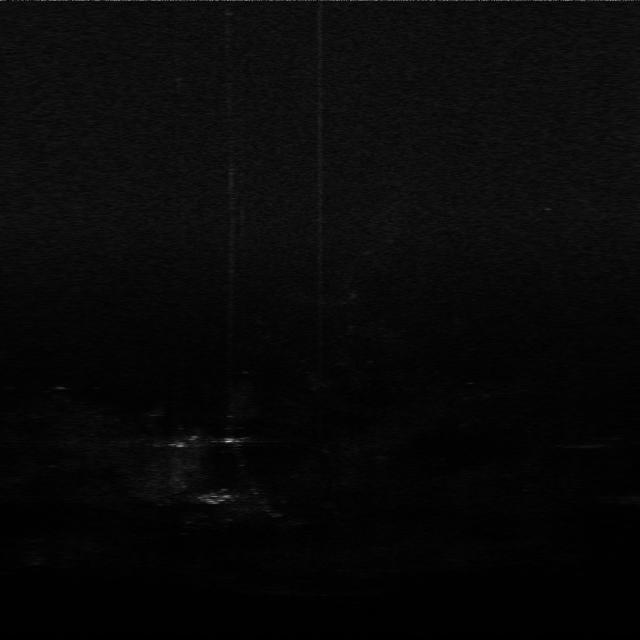rov: (194, 486, 237, 509)
